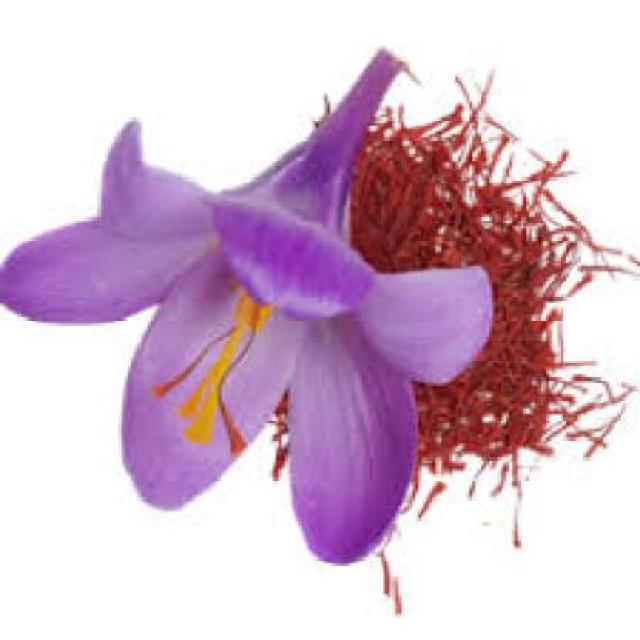saffron open: (0, 50, 492, 562)
